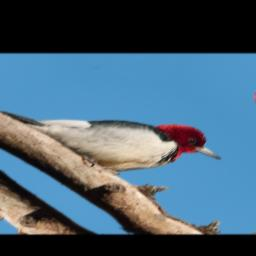Woodpecker: (0, 69, 235, 195)
